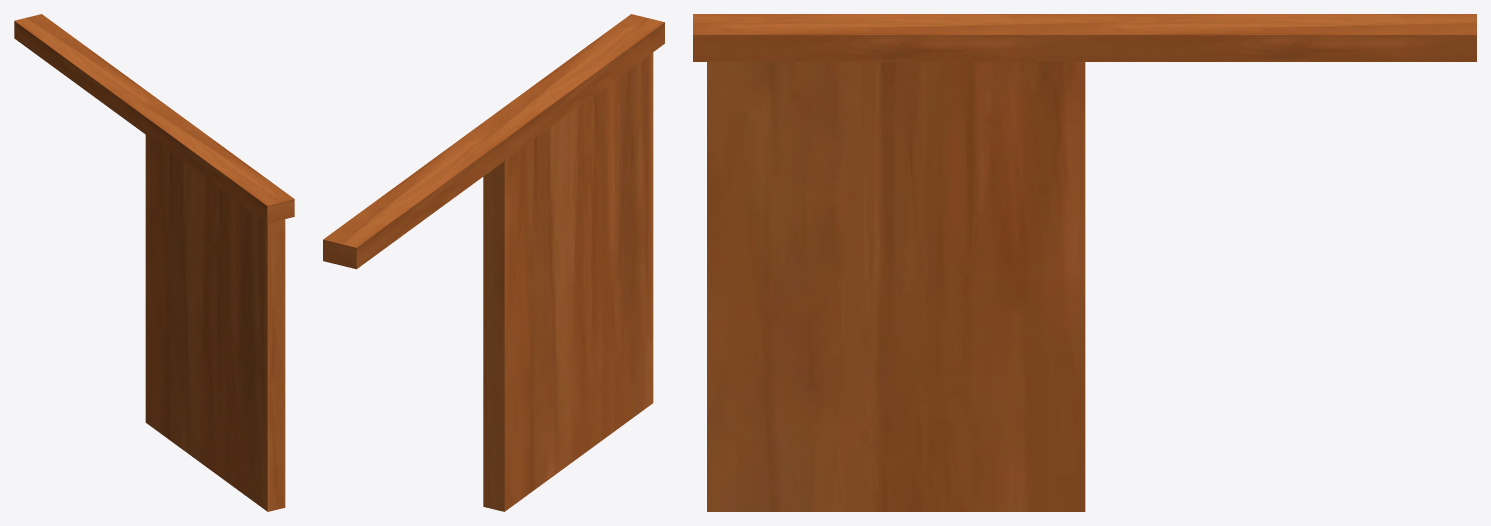
File: porteV2.fbx
3 renders of one model, left to right at view 1: azimuth 30°, elevation 25°; view 2: azimuth 150°, elevation 25°; view 3: azimuth 270°, elevation 25°, orthographic. The views are drawn at different scales.
Visible parts, largest first — view 1: Porte, Coulisse; view 2: Porte, Coulisse; view 3: Porte, Coulisse.
Part boxes in pixels (x1,y1,x2,y2): Porte: [145, 135, 285, 511]; Coulisse: [14, 14, 294, 223]; Porte: [483, 52, 653, 511]; Coulisse: [323, 14, 664, 269]; Porte: [707, 62, 1085, 511]; Coulisse: [693, 14, 1476, 61].
Size of the model in its own units: 4.53 by 48.63 by 71.81.
Materials: 1 (1 with a texture image).
